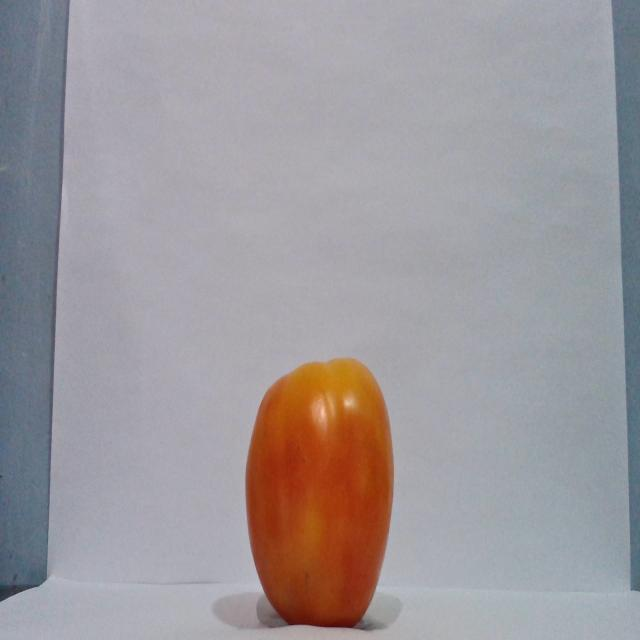Red: (243, 356, 395, 627)
